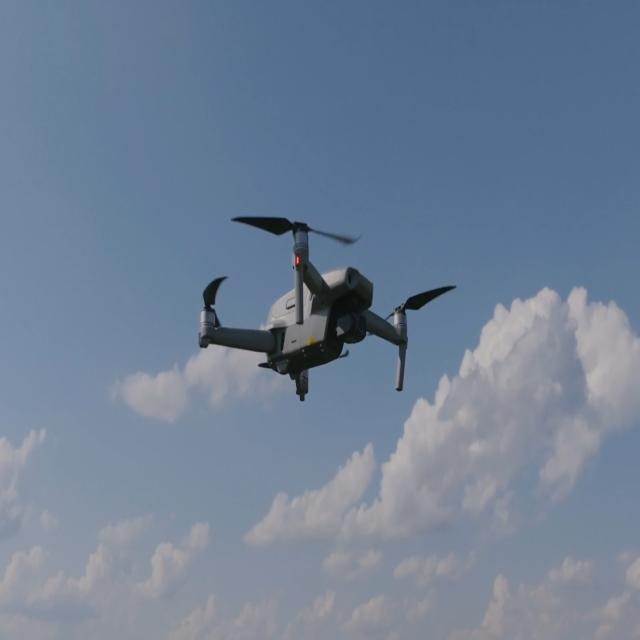Drone: (198, 217, 455, 402)
